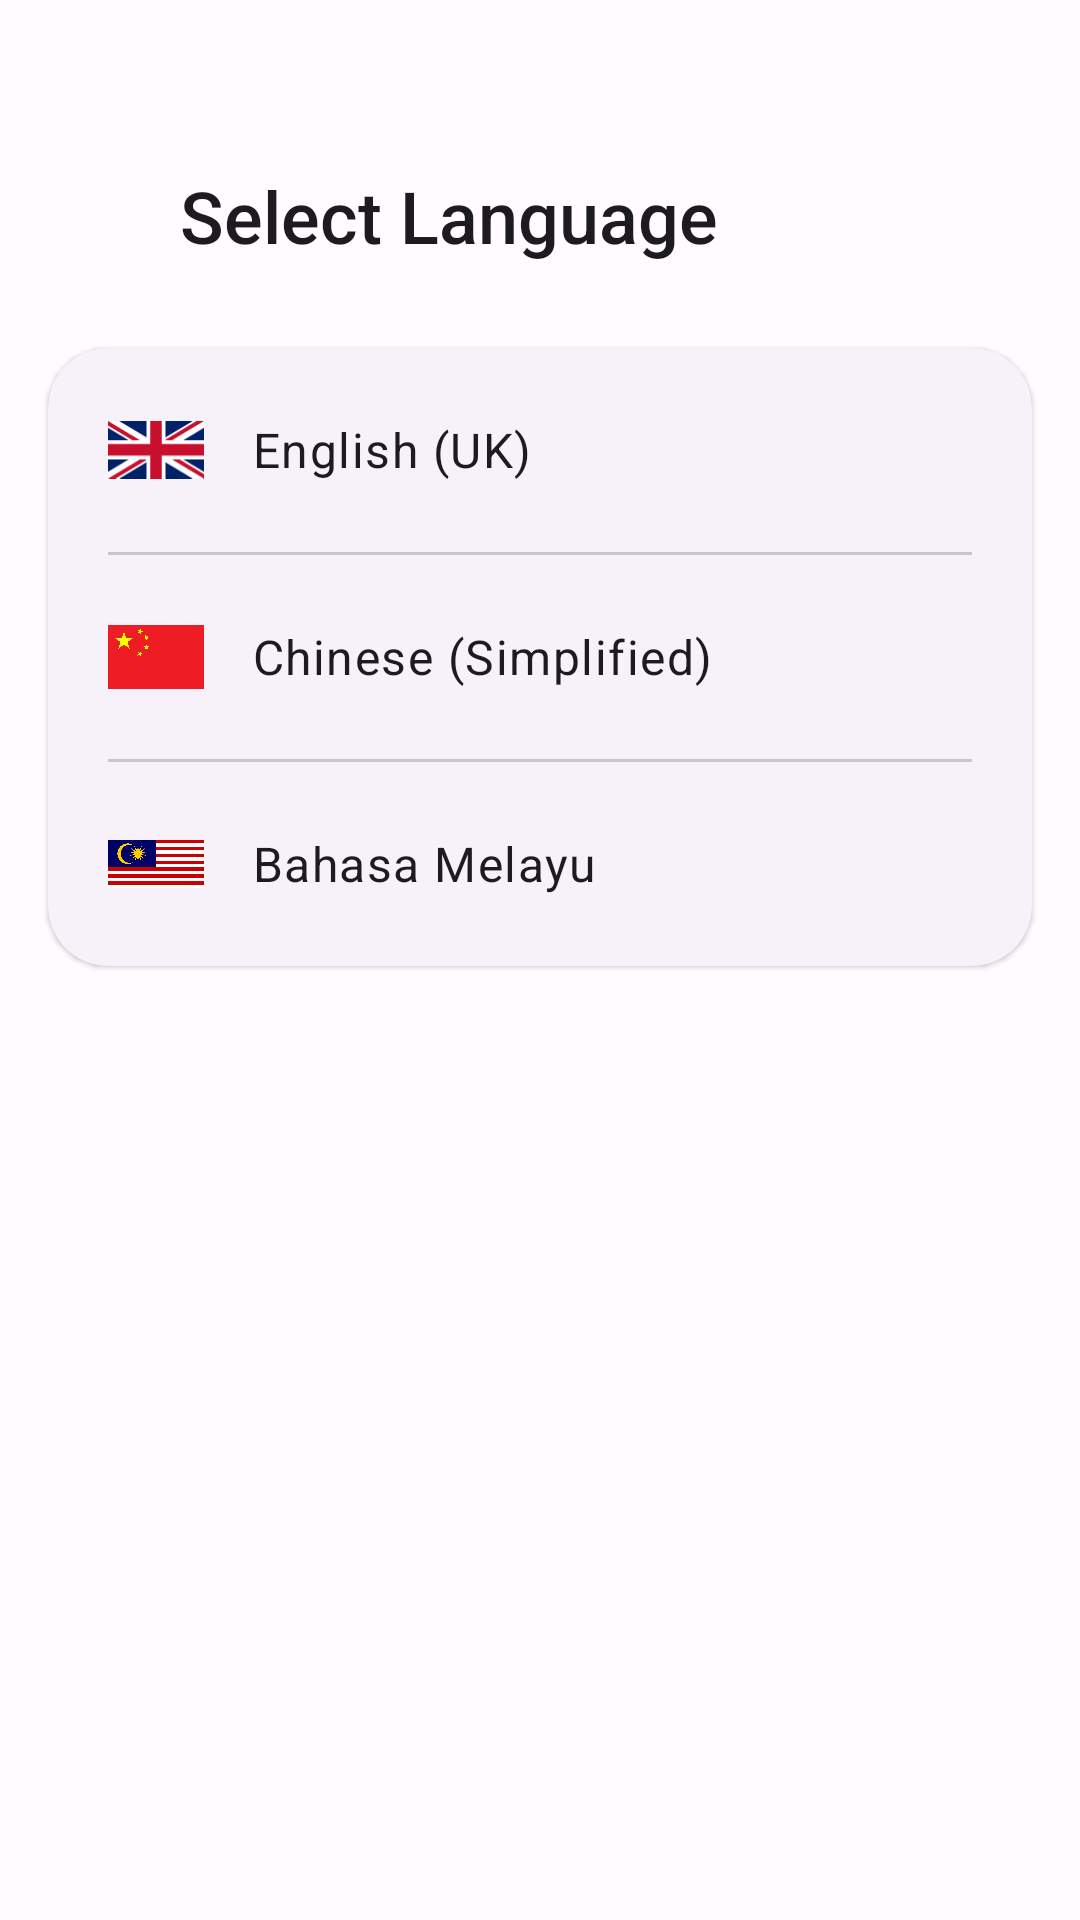

Icons on this 1080×1920 Android screen, each with the point to tap as [x,y]:
flag of malaysia: [156,862]
